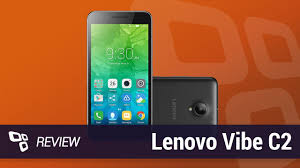lenovo: (85, 9, 151, 135)
